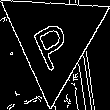P_NW: (28, 8, 79, 70)
